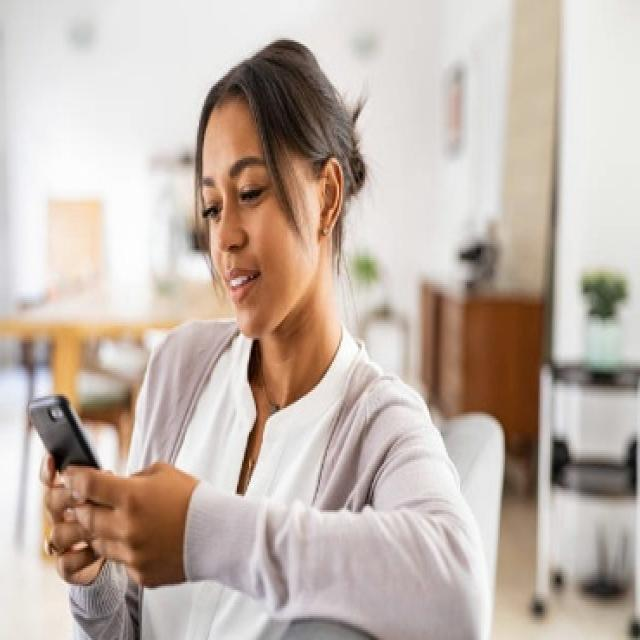adult: (70, 51, 493, 638)
